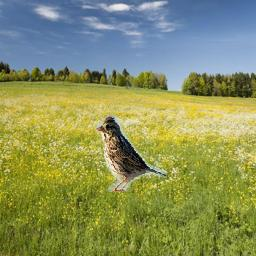Sparrow: (95, 114, 167, 192)
